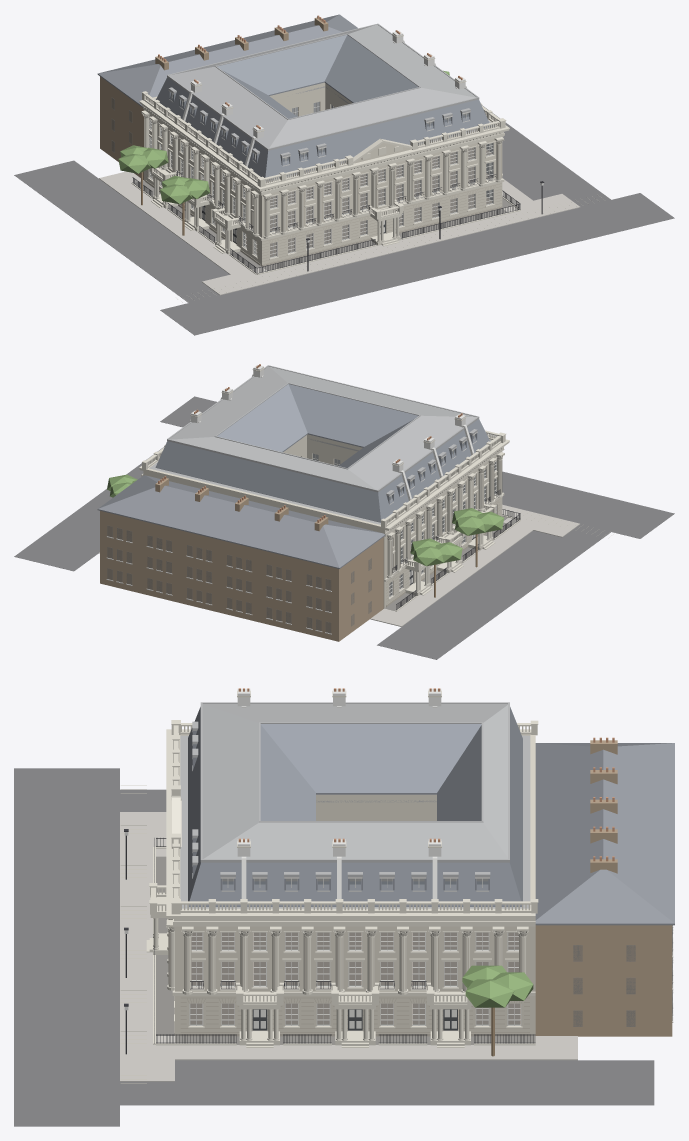
Rendered from clay-regency-stucco-terrace-clay-v004.glb.
3 renders of one model, top to bottom at view 1: azimuth 30°, elevation 25°; view 2: azimuth 150°, elevation 25°; view 3: azimuth 270°, elevation 25°, orthographic. The views are drawn at different scales.
Visible parts, largest first — view 1: CLAY_ASPHALT, CLAY_STONE, CLAY_ROOF, CLAY_WALL, CLAY_LEAD, CLAY_PAVING, CLAY_NROOF, CLAY_GLASS, CLAY_JOINT, CLAY_TRIM, CLAY_FLOOR, CLAY_NEIGHBOUR (+6 smaller); view 2: CLAY_NEIGHBOUR, CLAY_ASPHALT, CLAY_ROOF, CLAY_LEAD, CLAY_NROOF, CLAY_STONE, CLAY_WALL, CLAY_GLASS, CLAY_PAVING, CLAY_PLANTING, CLAY_WHITE, CLAY_JOINT (+4 smaller); view 3: CLAY_ASPHALT, CLAY_ROOF, CLAY_LEAD, CLAY_STONE, CLAY_NROOF, CLAY_WALL, CLAY_PAVING, CLAY_NEIGHBOUR, CLAY_GLASS, CLAY_FLOOR, CLAY_JOINT, CLAY_TRIM (+6 smaller).
Part boxes in pixels (bbox=[...]): CLAY_ASPHALT: bbox=[14, 105, 674, 335]; CLAY_STONE: bbox=[131, 33, 520, 274]; CLAY_ROOF: bbox=[156, 34, 490, 180]; CLAY_WALL: bbox=[142, 82, 503, 266]; CLAY_LEAD: bbox=[155, 23, 495, 182]; CLAY_PAVING: bbox=[99, 171, 580, 295]; CLAY_NROOF: bbox=[97, 14, 357, 107]; CLAY_GLASS: bbox=[111, 93, 492, 257]; CLAY_JOINT: bbox=[144, 118, 605, 302]; CLAY_TRIM: bbox=[149, 90, 493, 258]; CLAY_FLOOR: bbox=[152, 147, 492, 256]; CLAY_NEIGHBOUR: bbox=[100, 76, 143, 180]; CLAY_NEIGHBOUR: bbox=[100, 511, 383, 641]; CLAY_ASPHALT: bbox=[14, 396, 674, 659]; CLAY_ROOF: bbox=[155, 384, 490, 522]; CLAY_LEAD: bbox=[149, 365, 491, 524]; CLAY_NROOF: bbox=[97, 475, 385, 568]; CLAY_STONE: bbox=[139, 367, 520, 611]; CLAY_WALL: bbox=[144, 434, 503, 608]; CLAY_GLASS: bbox=[107, 434, 495, 633]; CLAY_PAVING: bbox=[99, 504, 579, 626]; CLAY_PLANTING: bbox=[107, 474, 504, 566]; CLAY_WHITE: bbox=[106, 365, 474, 634]; CLAY_JOINT: bbox=[386, 460, 613, 604]; CLAY_ASPHALT: bbox=[14, 768, 654, 1126]; CLAY_ROOF: bbox=[188, 707, 522, 906]; CLAY_LEAD: bbox=[180, 702, 530, 908]; CLAY_STONE: bbox=[146, 690, 538, 1047]; CLAY_NROOF: bbox=[535, 743, 674, 925]; CLAY_WALL: bbox=[170, 734, 535, 1035]; CLAY_PAVING: bbox=[120, 812, 577, 1081]; CLAY_NEIGHBOUR: bbox=[535, 925, 672, 1036]; CLAY_GLASS: bbox=[190, 878, 672, 1026]; CLAY_FLOOR: bbox=[190, 932, 520, 1028]; CLAY_JOINT: bbox=[121, 785, 529, 1083]; CLAY_TRIM: bbox=[189, 731, 521, 1028].
Bounding box in the file's own units: 80 × 19.12 × 62.35.
